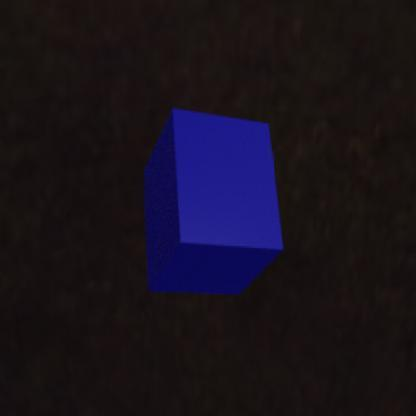blue_cube: (142, 108, 284, 294)
